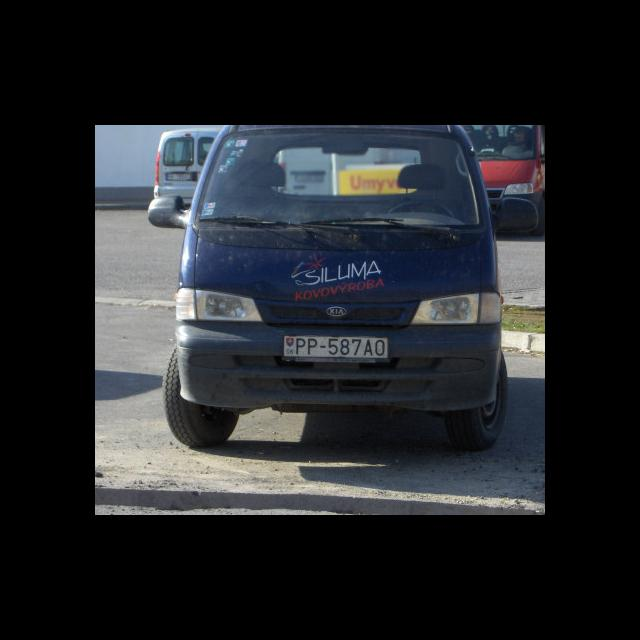Plate: (281, 333, 390, 361)
